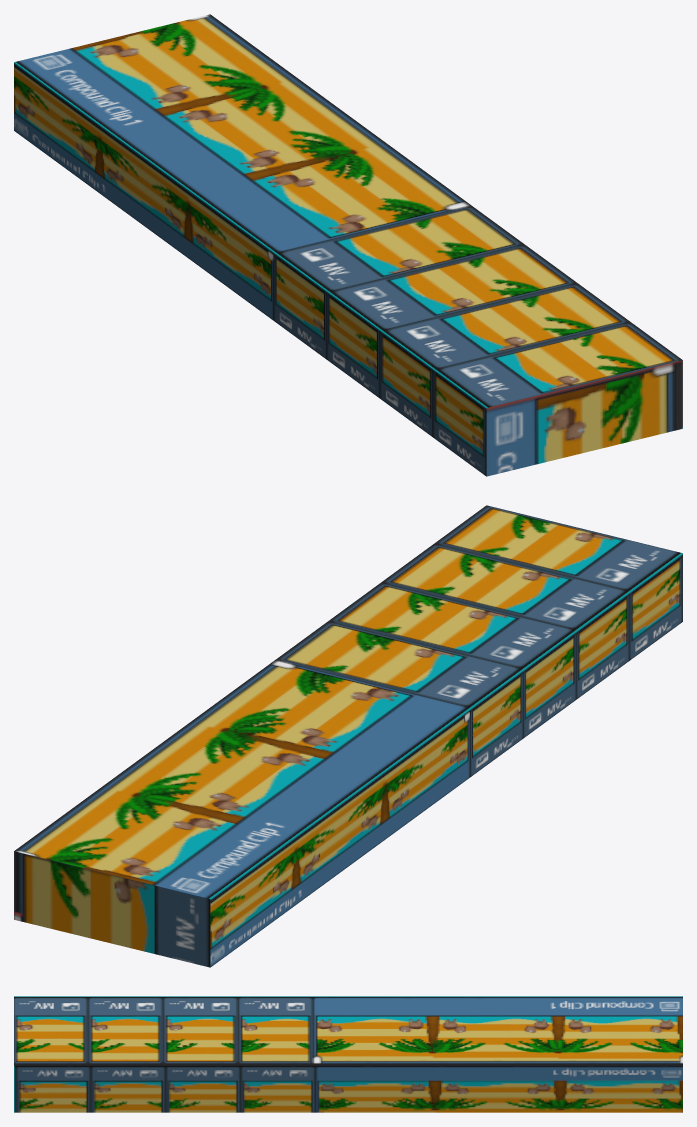
The model's file is DaVinciB2.fbx.
3 renders of one model, top to bottom at view 1: azimuth 30°, elevation 25°; view 2: azimuth 150°, elevation 25°; view 3: azimuth 270°, elevation 25°, orthographic. The views are drawn at different scales.
Parts seen in each view (by area): view 1: DaVinci_B2; view 2: DaVinci_B2; view 3: DaVinci_B2.
Boxes of the visible parts, x1,y1,x2,y2 form: DaVinci_B2: (14, 14, 682, 476); DaVinci_B2: (14, 505, 682, 967); DaVinci_B2: (14, 996, 682, 1112).
Size of the model in its own units: 60 by 20 by 250.
1 material, 1 textured.
